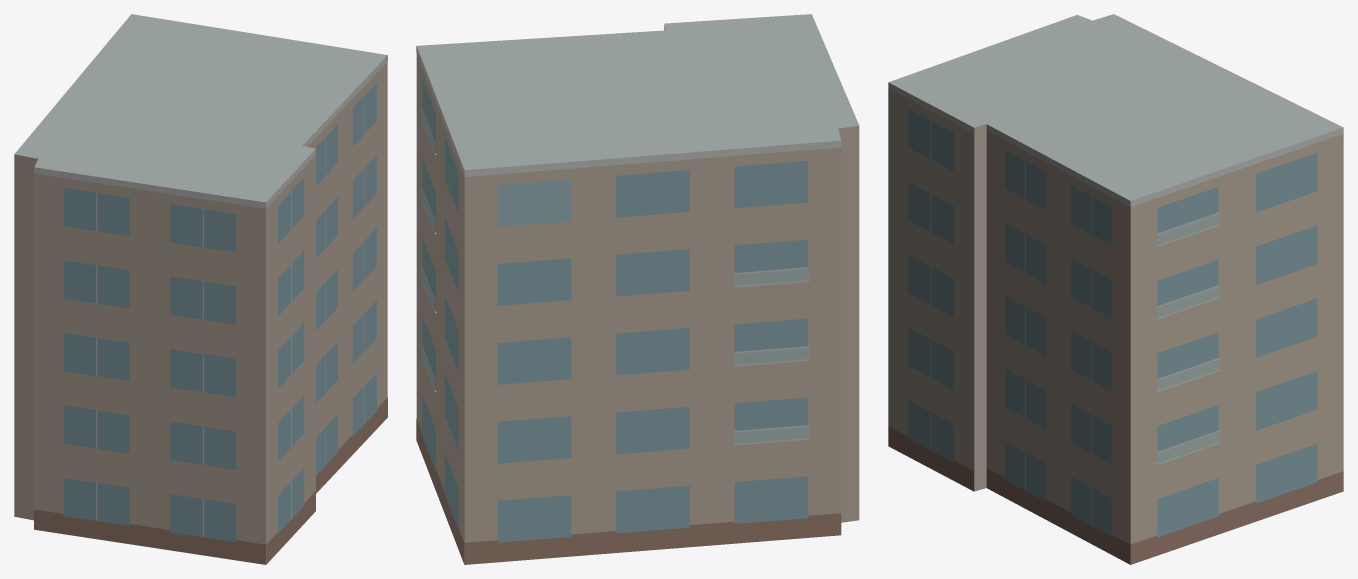
File: survey-upis-32745072.glb
The picture shows the model from 3 angles, left to right: view 1: azimuth 30°, elevation 25°; view 2: azimuth 150°, elevation 25°; view 3: azimuth 270°, elevation 25°; orthographic projection. The views are drawn at different scales.
Visible parts, largest first — view 1: survey-upis-32745072.tmp; view 2: survey-upis-32745072.tmp; view 3: survey-upis-32745072.tmp.
Part boxes in pixels (x1,y1,x2,y2): survey-upis-32745072.tmp: (14, 14, 387, 564); survey-upis-32745072.tmp: (416, 14, 859, 564); survey-upis-32745072.tmp: (888, 14, 1343, 564).
Bounding box in the file's own units: 15.55 × 14.1 × 16.
